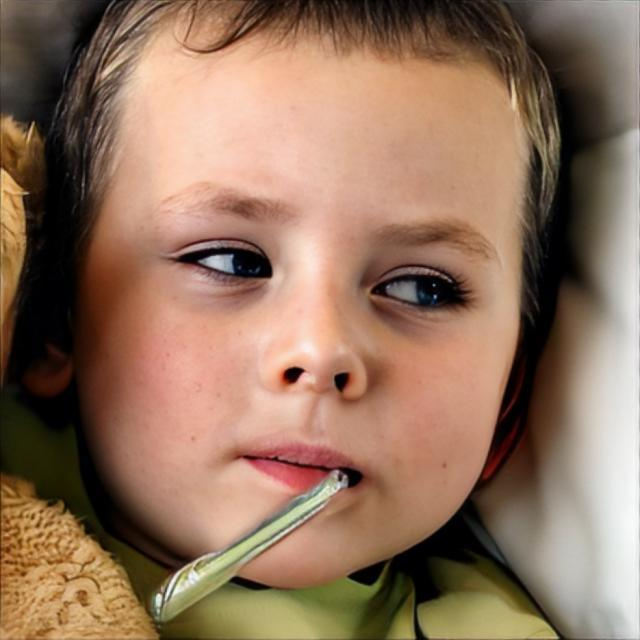neutral: (85, 20, 526, 588)
